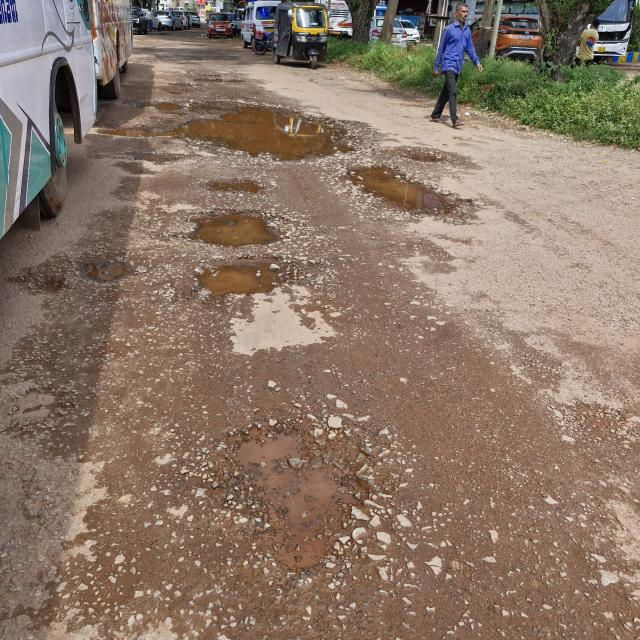pothole: (198, 410, 394, 578), (160, 86, 354, 168), (190, 264, 339, 360), (340, 163, 471, 231), (185, 204, 282, 255), (200, 173, 264, 198)
